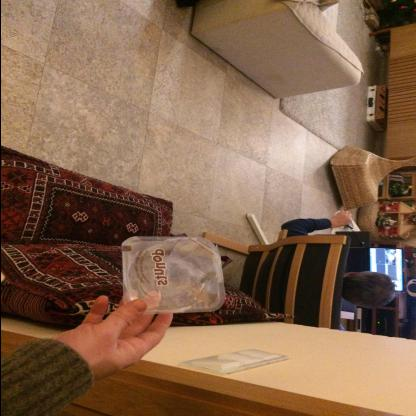plastik: (118, 235, 224, 314)
